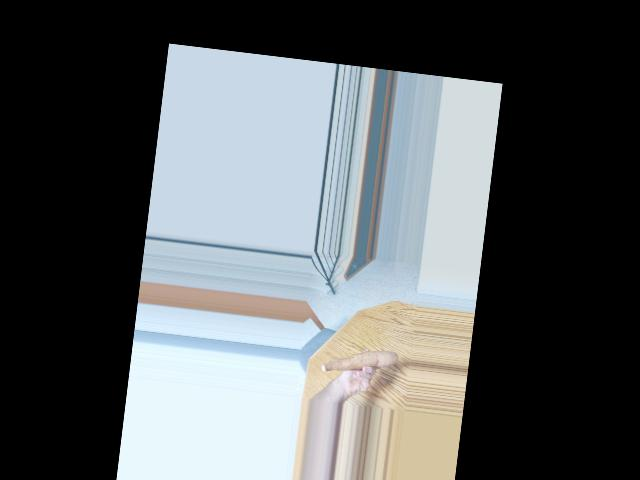sweet_potato: (322, 339, 395, 381)
